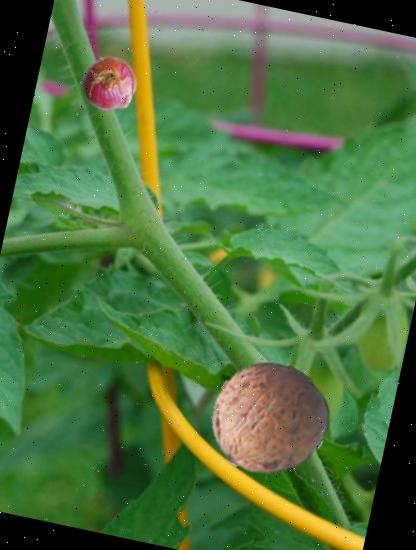Onion: (76, 51, 144, 119)
Walnut: (200, 352, 336, 488)
